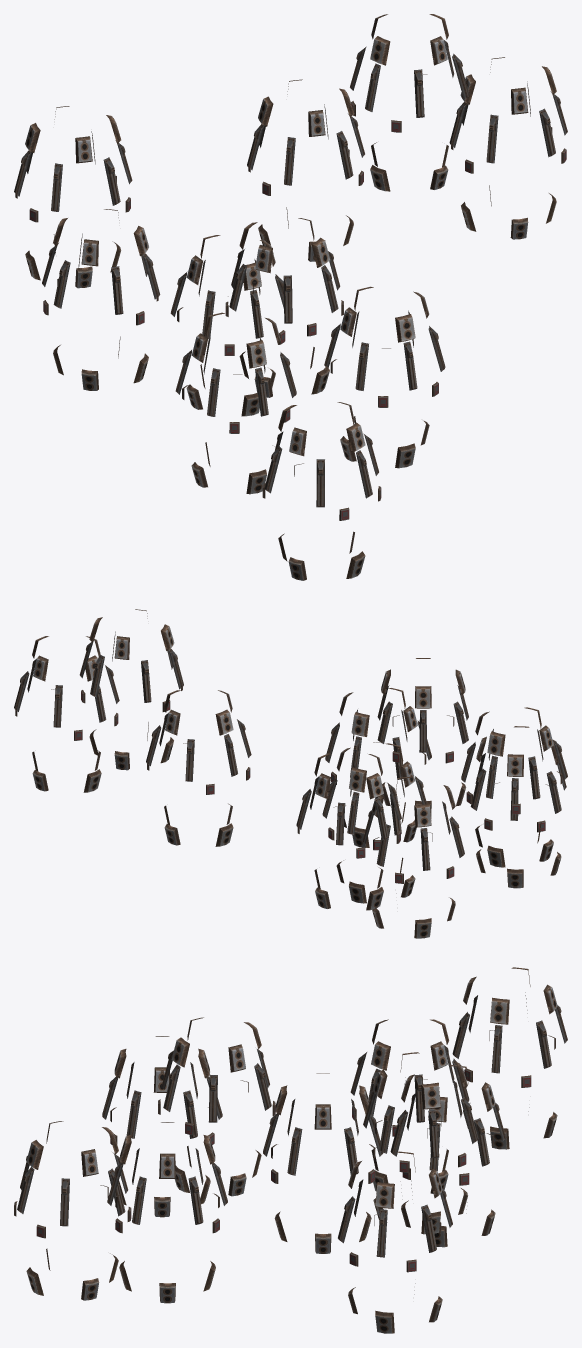
The model's file is prop_static_yao_container_01_04_0.glb.
3 views of the same model, one above another, from view 1: azimuth 30°, elevation 25°; view 2: azimuth 150°, elevation 25°; view 3: azimuth 270°, elevation 25° (orthographic). The views are drawn at different scales.
Visible parts, largest first — view 1: yao_container_01_04_LOD0; view 2: yao_container_01_04_LOD0; view 3: yao_container_01_04_LOD0.
Boxes of the visible parts, <box> form: yao_container_01_04_LOD0: <box>14,14,567,580</box>; yao_container_01_04_LOD0: <box>14,609,567,938</box>; yao_container_01_04_LOD0: <box>14,967,567,1333</box>.
Size of what is drawn, in the model's own units: 10 by 6.6 by 9.6.
Materials: 1 (1 with a texture image).
